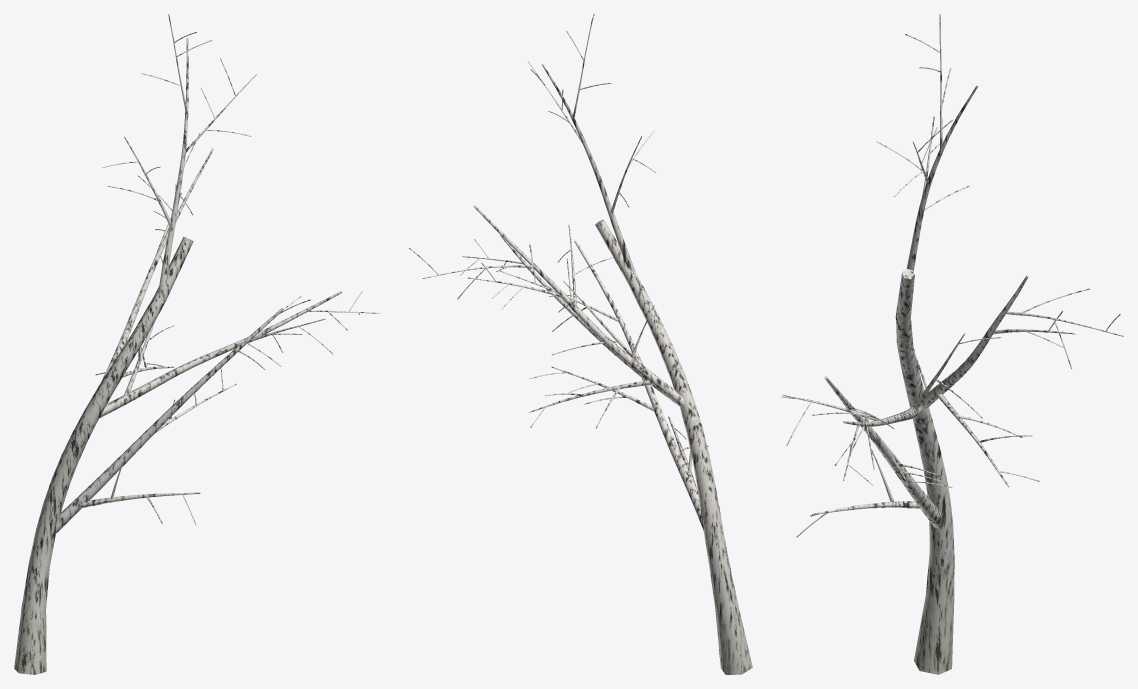
File: birch1_trunk.glb
The picture shows the model from 3 angles, left to right: view 1: azimuth 30°, elevation 25°; view 2: azimuth 150°, elevation 25°; view 3: azimuth 270°, elevation 25°; orthographic projection. The views are drawn at different scales.
Parts seen in each view (by area): view 1: trunk; view 2: trunk; view 3: trunk.
Part boxes in pixels (box(x1,y1,x2,y2)): trunk: box(14, 14, 380, 674); trunk: box(409, 14, 752, 674); trunk: box(781, 14, 1123, 674).
Size of the model in its own units: 5.8 by 10.56 by 4.46.
1 material, 1 textured.
